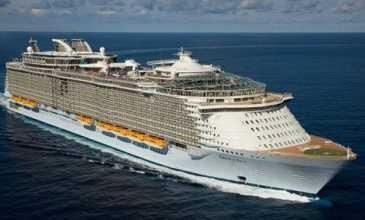youlun: (3, 24, 357, 197)
